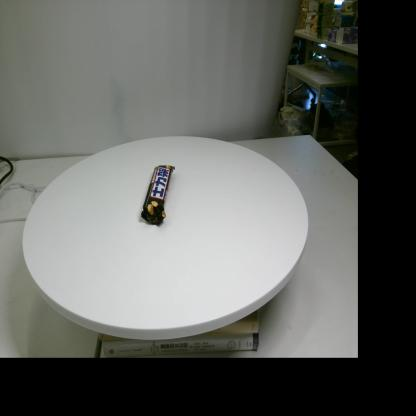Chocolate: (141, 165, 175, 225)
